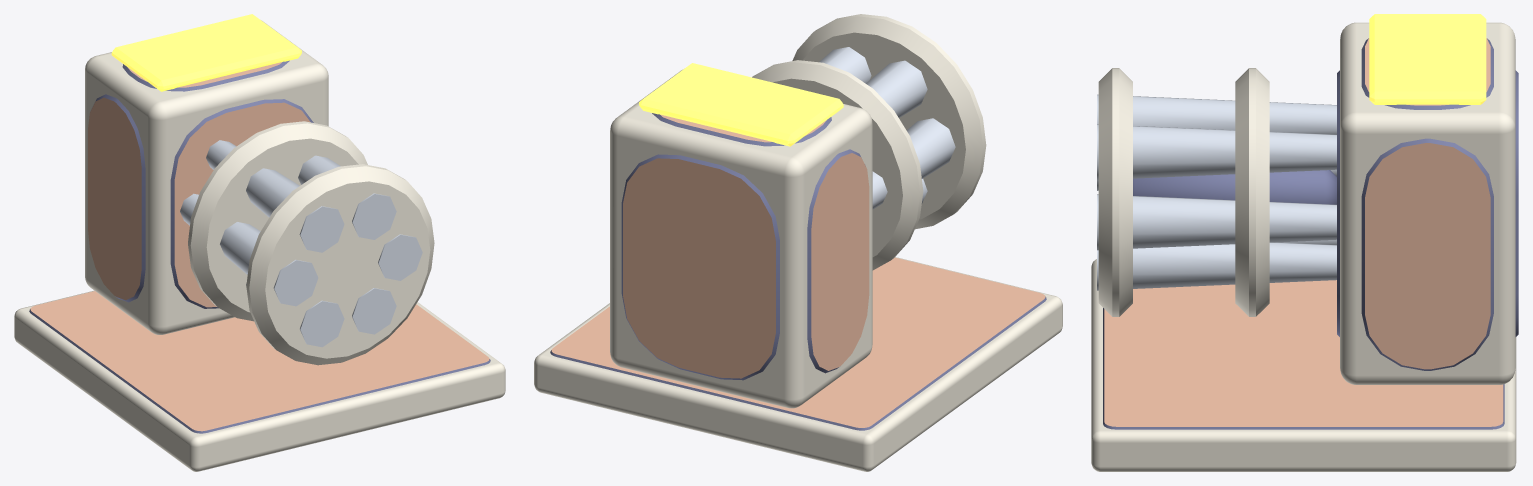
File: R4X_RapidFire.fbx
3 views of the same model, side by side, from view 1: azimuth 30°, elevation 25°; view 2: azimuth 150°, elevation 25°; view 3: azimuth 270°, elevation 25° (orthographic). The views are drawn at different scales.
Parts seen in each view (by area): view 1: R4X_RapidFire_Body, R4X_RapidFire_Barrels; view 2: R4X_RapidFire_Body, R4X_RapidFire_Barrels; view 3: R4X_RapidFire_Body, R4X_RapidFire_Barrels.
Boxes of the visible parts, x1=… form: R4X_RapidFire_Body: x1=14, y1=14, x2=505, y2=471; R4X_RapidFire_Barrels: x1=180, y1=121, x2=434, y2=365; R4X_RapidFire_Body: x1=534, y1=63, x2=1062, y2=471; R4X_RapidFire_Barrels: x1=752, y1=14, x2=986, y2=270; R4X_RapidFire_Body: x1=1091, y1=14, x2=1518, y2=471; R4X_RapidFire_Barrels: x1=1097, y1=68, x2=1336, y2=316.
Bounding box in the file's own units: 0.514 × 0.4464 × 0.517.
